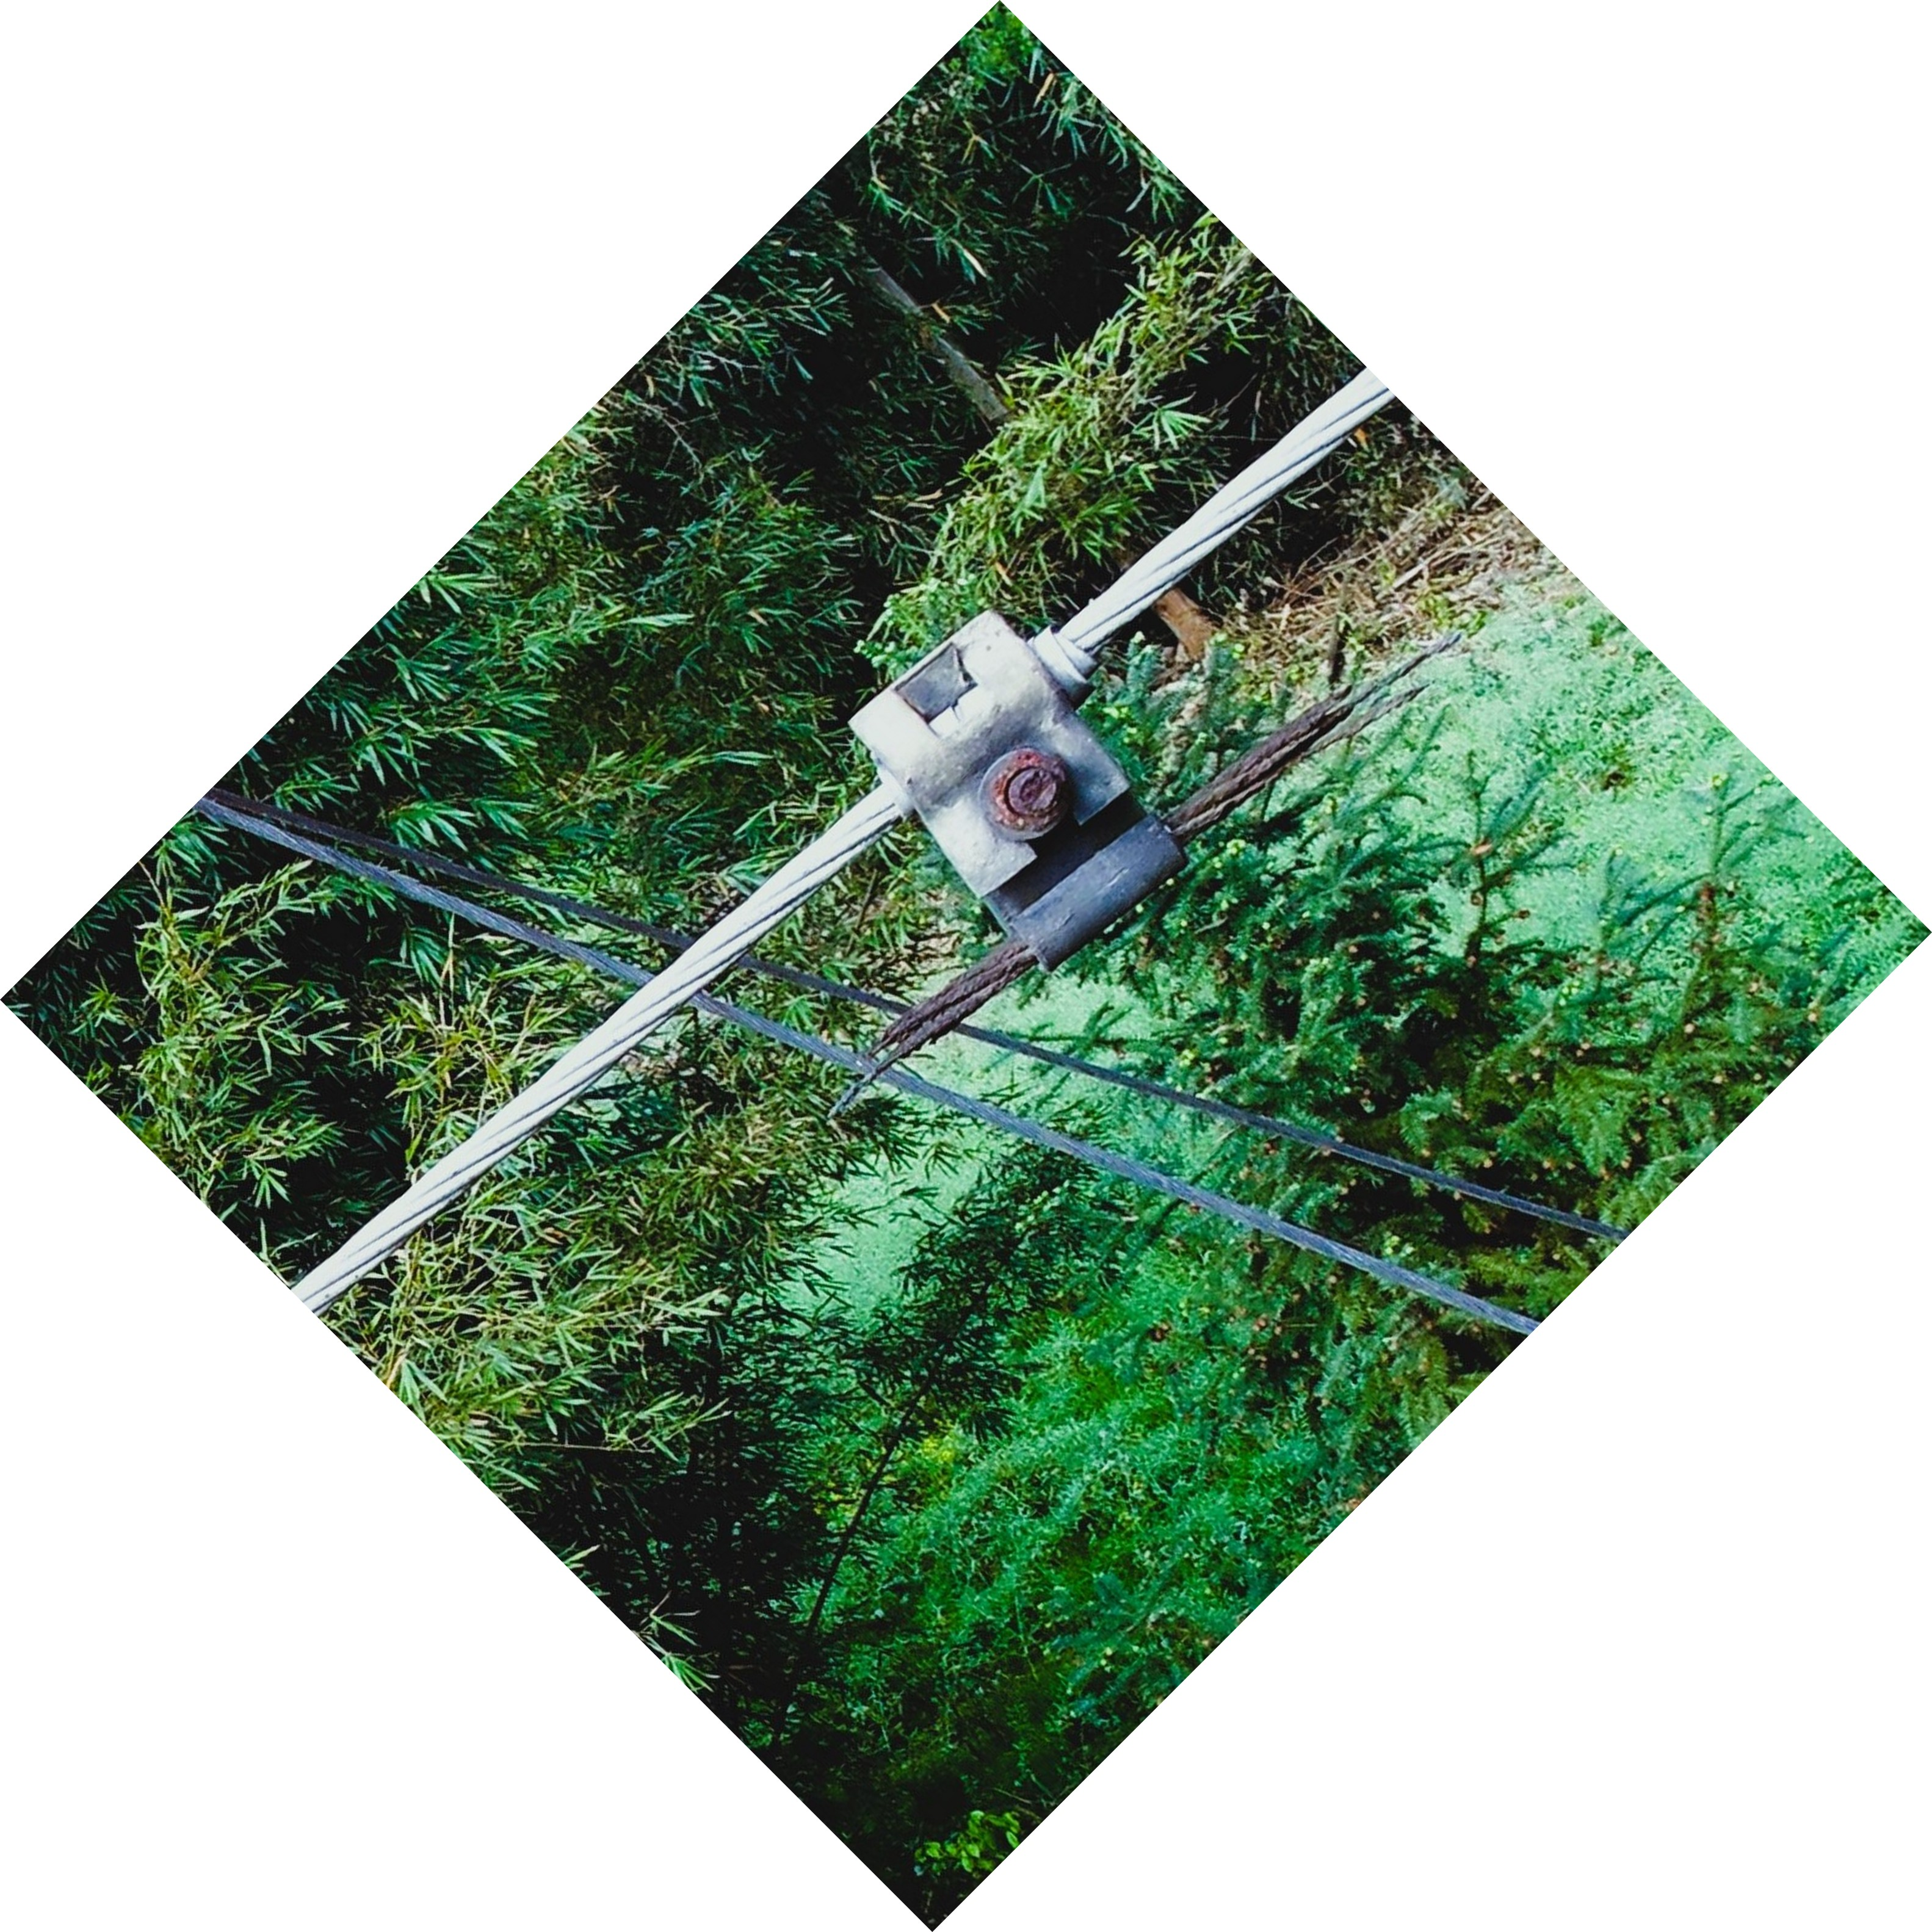Damage of shockproof hammer: (780, 533, 1479, 1118)
